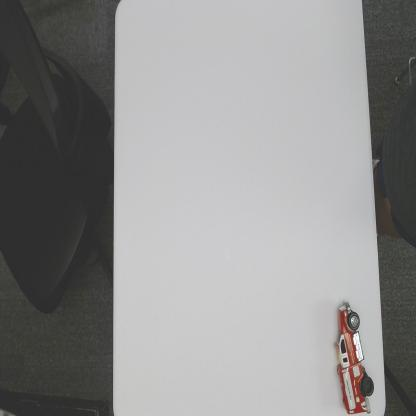Firetruck: (333, 299, 376, 415)
